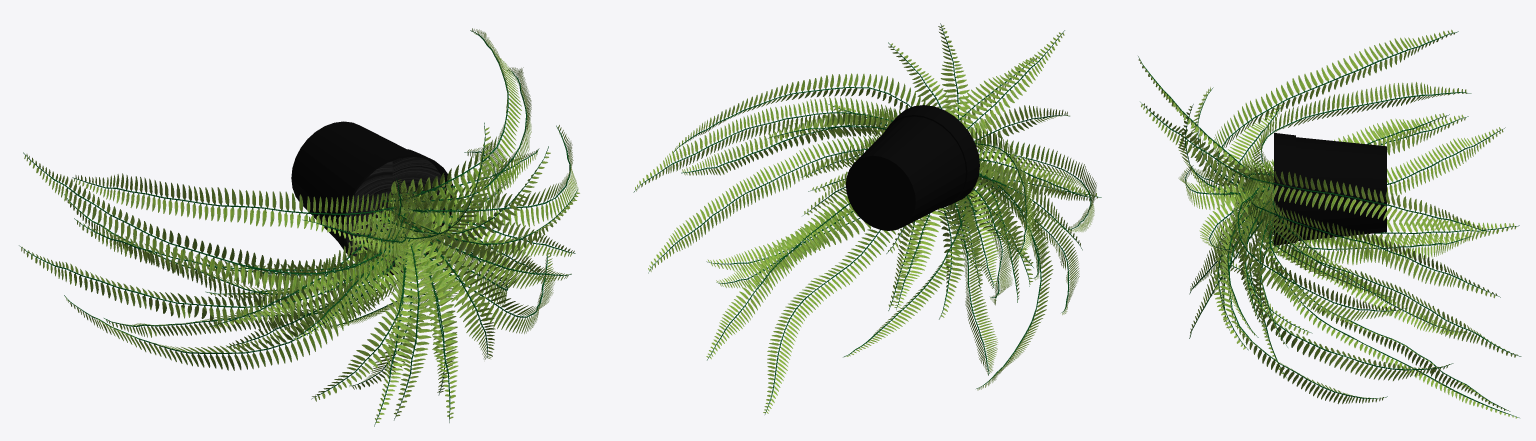
Rendered from Cây dương xỉ.glb.
3 renders of one model, left to right at view 1: azimuth 30°, elevation 25°; view 2: azimuth 150°, elevation 25°; view 3: azimuth 270°, elevation 25°, orthographic. The views are drawn at different scales.
Visible parts, largest first — view 1: Object_4, Object_6, Object_7, Object_8; view 2: Object_4, Object_7, Object_6; view 3: Object_4, Object_7, Object_6.
Boxes of the visible parts, x1=… form: Object_4: x1=21, y1=28, x2=579, y2=422; Object_6: x1=19, y1=30, x2=577, y2=426; Object_7: x1=291, y1=121, x2=454, y2=275; Object_8: x1=345, y1=157, x2=445, y2=266; Object_4: x1=635, y1=25, x2=1097, y2=413; Object_7: x1=846, y1=105, x2=979, y2=230; Object_6: x1=633, y1=23, x2=1101, y2=414; Object_4: x1=1138, y1=29, x2=1517, y2=418; Object_7: x1=1274, y1=133, x2=1386, y2=245; Object_6: x1=1138, y1=31, x2=1521, y2=417.
Size of the model in its own units: 0.5547 by 0.371 by 0.413.
Materials: 4 (2 with a texture image).
